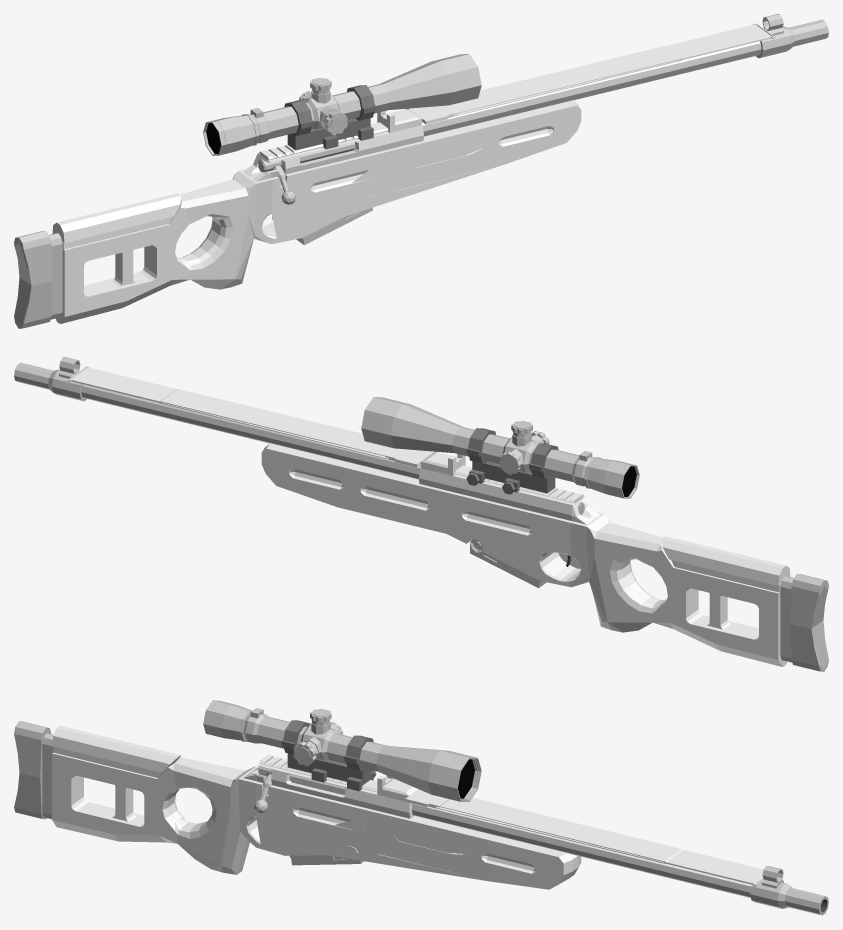
3 renders of one model, top to bottom at view 1: azimuth 30°, elevation 25°; view 2: azimuth 150°, elevation 25°; view 3: azimuth 330°, elevation 25°, orthographic.
Visible parts, largest first — view 1: Base, Sight (Opaque), Mount, Bolt; view 2: Base, Sight (Opaque), Mount, Mag; view 3: Base, Sight (Opaque), Mount, Bolt, Mag.
Boxes of the visible parts, x1,y1,x2,y2 form: Base: (14,14,828,328); Sight (Opaque): (203,54,481,155); Mount: (284,85,376,150); Bolt: (258,142,355,204); Base: (14,357,828,671); Sight (Opaque): (361,397,639,498); Mount: (466,428,558,494); Mag: (470,539,546,588); Base: (14,721,828,915); Sight (Opaque): (203,700,481,801); Mount: (281,720,376,791); Bolt: (254,766,345,813); Mag: (289,855,363,865).
Size of the model in its own units: 329 by 70.19 by 21.98.
